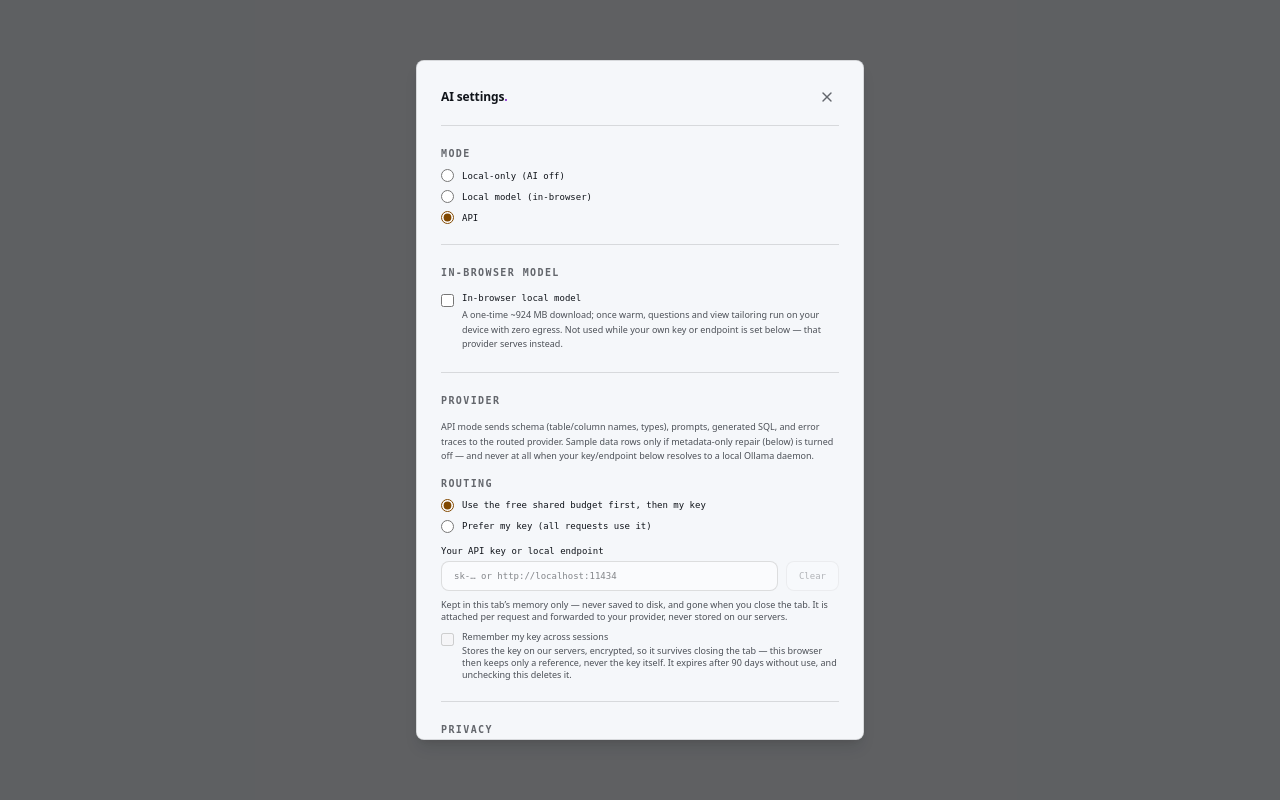
AISettingsPanel — "Remember my key" (D9 opt-in vault, 09-edge/03) › cannot be checked until a key is entered
Expected: the checkbox labelled "Remember my key across sessions" is disabled, top-left (441, 633), bottom-right (454, 646)
Type "sk-secret-123" into the password field labelled "Your API key or local endpoint". click: (609, 576)
box: top-left (441, 561), bottom-right (778, 591)
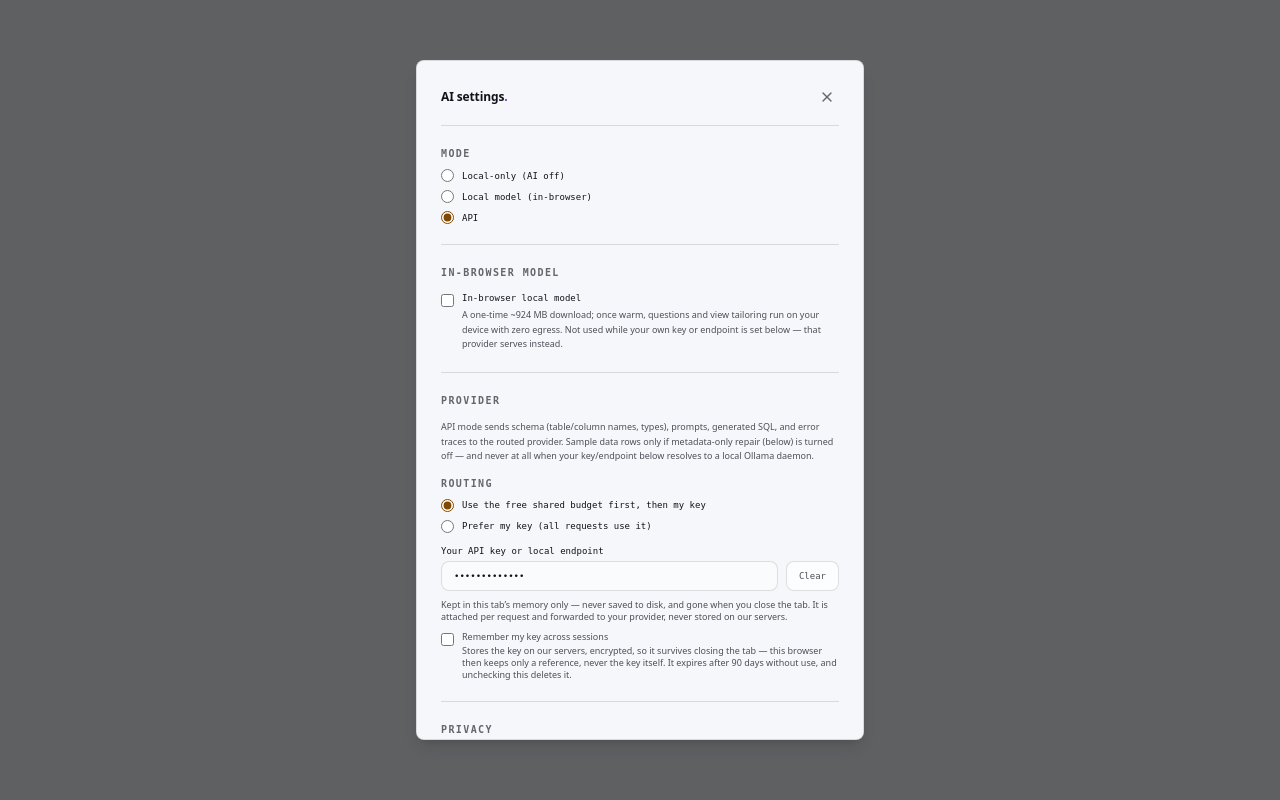
Result: the checkbox labelled "Remember my key across sessions" is enabled at top-left (441, 633), bottom-right (454, 646)
